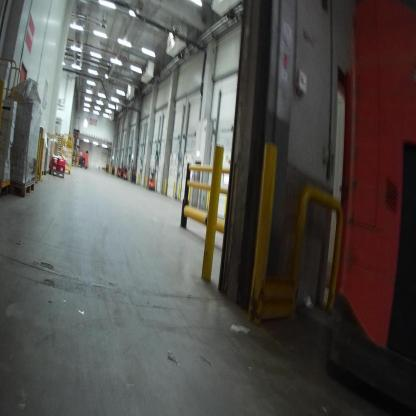pallet: (11, 179, 40, 200), (48, 167, 66, 181), (1, 181, 13, 200), (36, 169, 45, 178), (43, 169, 50, 178)
pallet_truck: (80, 148, 91, 169), (148, 170, 157, 191), (114, 160, 123, 180), (131, 164, 140, 183), (122, 157, 129, 181), (75, 144, 83, 163)
